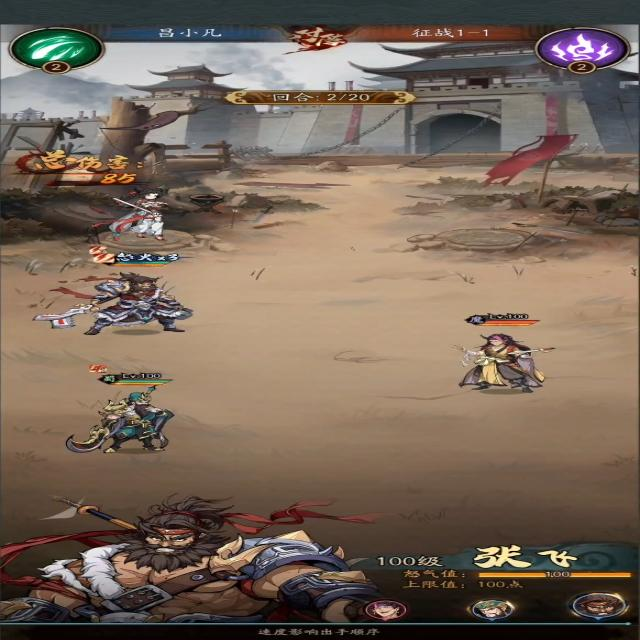hint-guide: (249, 625, 393, 638)
